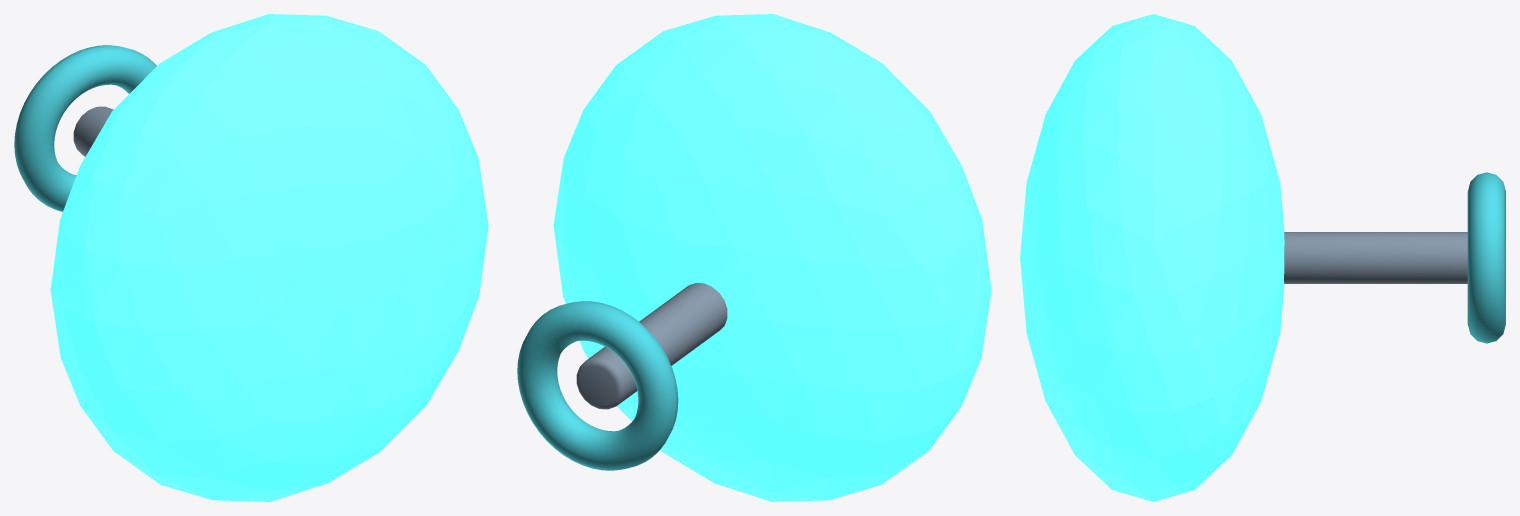
File: earring_v4.glb
The picture shows the model from 3 angles, left to right: view 1: azimuth 30°, elevation 25°; view 2: azimuth 150°, elevation 25°; view 3: azimuth 270°, elevation 25°; orthographic projection. The views are drawn at different scales.
Visible parts, largest first — view 1: STUD_GEM_EMISSIVE, STUD_BACK_ACCENT, STUD_POST_PRIMARY; view 2: STUD_GEM_EMISSIVE, STUD_BACK_ACCENT, STUD_POST_PRIMARY; view 3: STUD_GEM_EMISSIVE, STUD_POST_PRIMARY, STUD_BACK_ACCENT.
Part boxes in pixels (left/top/right/bottom): STUD_GEM_EMISSIVE: left=50, top=14, right=488, bottom=501; STUD_BACK_ACCENT: left=14, top=45, right=156, bottom=211; STUD_POST_PRIMARY: left=73, top=106, right=113, bottom=156; STUD_GEM_EMISSIVE: left=553, top=14, right=991, bottom=501; STUD_BACK_ACCENT: left=517, top=301, right=678, bottom=470; STUD_POST_PRIMARY: left=576, top=283, right=727, bottom=409; STUD_GEM_EMISSIVE: left=1020, top=14, right=1284, bottom=501; STUD_POST_PRIMARY: left=1284, top=232, right=1467, bottom=283; STUD_BACK_ACCENT: left=1467, top=172, right=1505, bottom=343.
Size of the model in its own units: 0.96 by 1.04 by 1.02.
